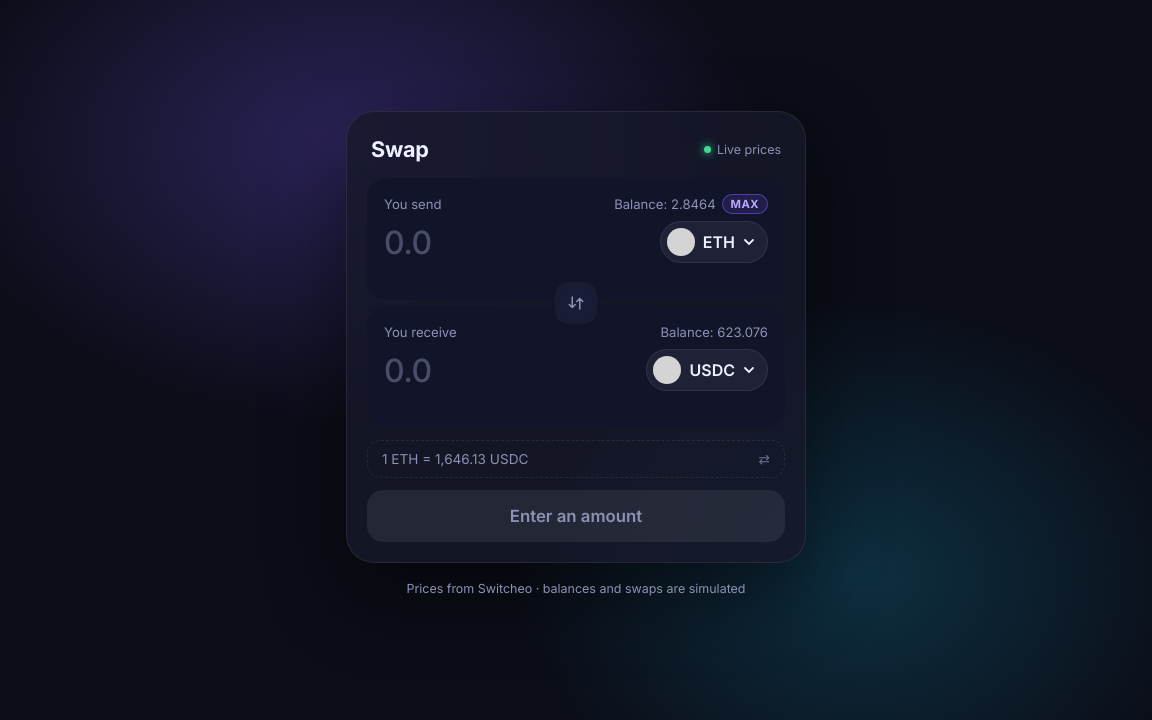
Test case: swap form › ignores characters that are not part of a number
The width and height of the screenshot is (1152, 720).
In the field labelled "You send": [516, 242] box [384, 223, 648, 262], type "1a2.3.4"
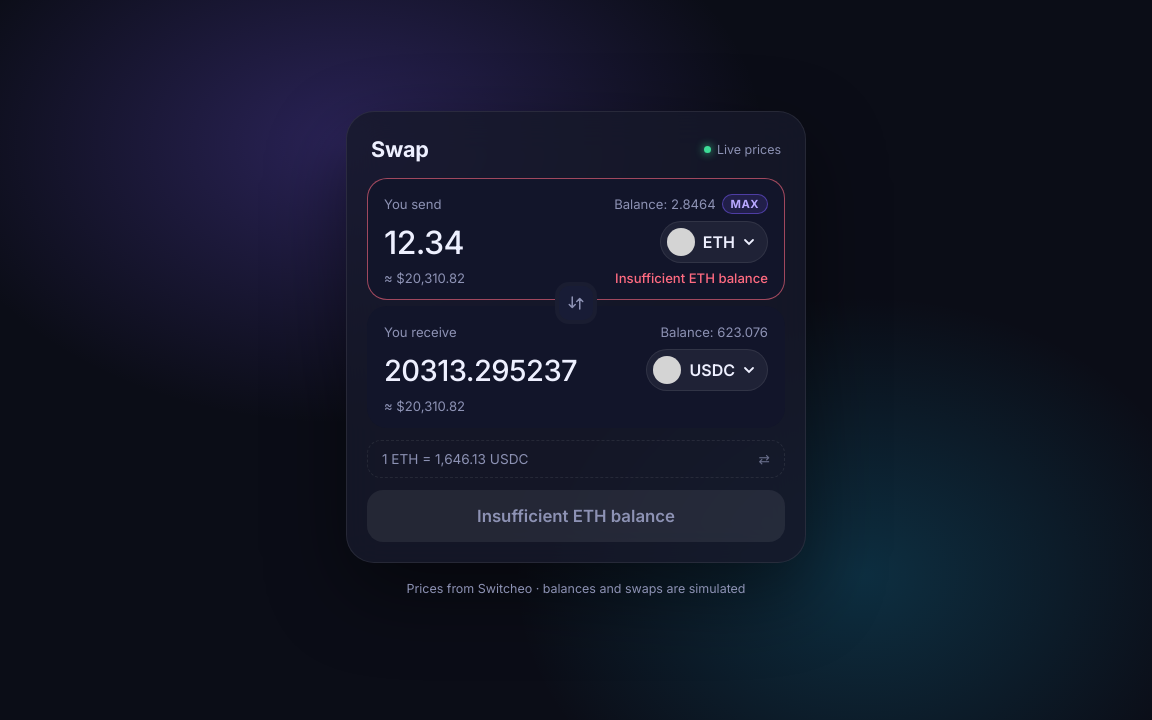
Now the field labelled "You send" holds "12.34", box [384, 223, 648, 262]
